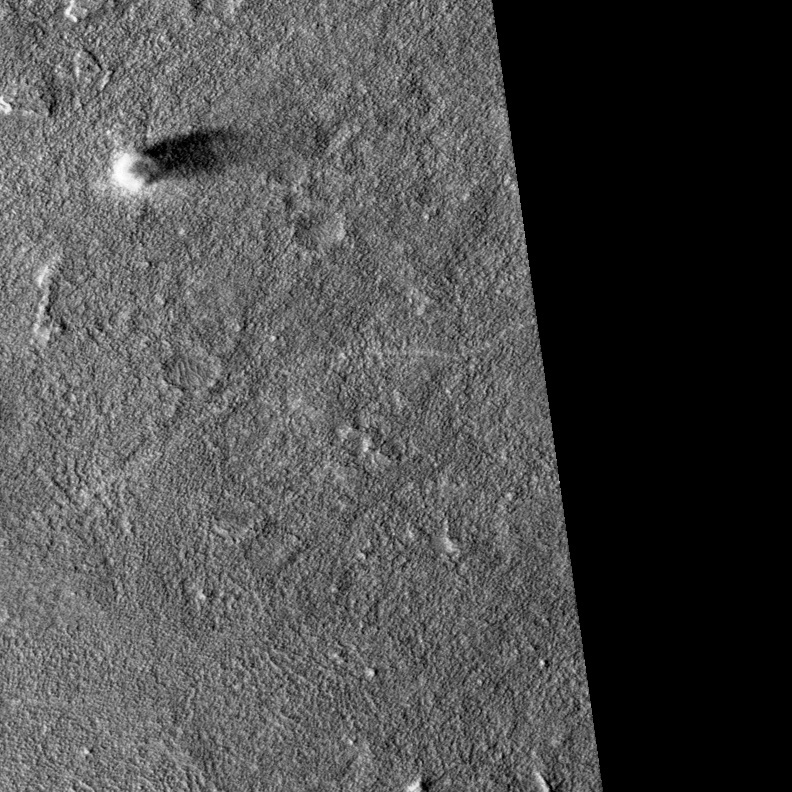dust_devil: (108, 124, 235, 192)
